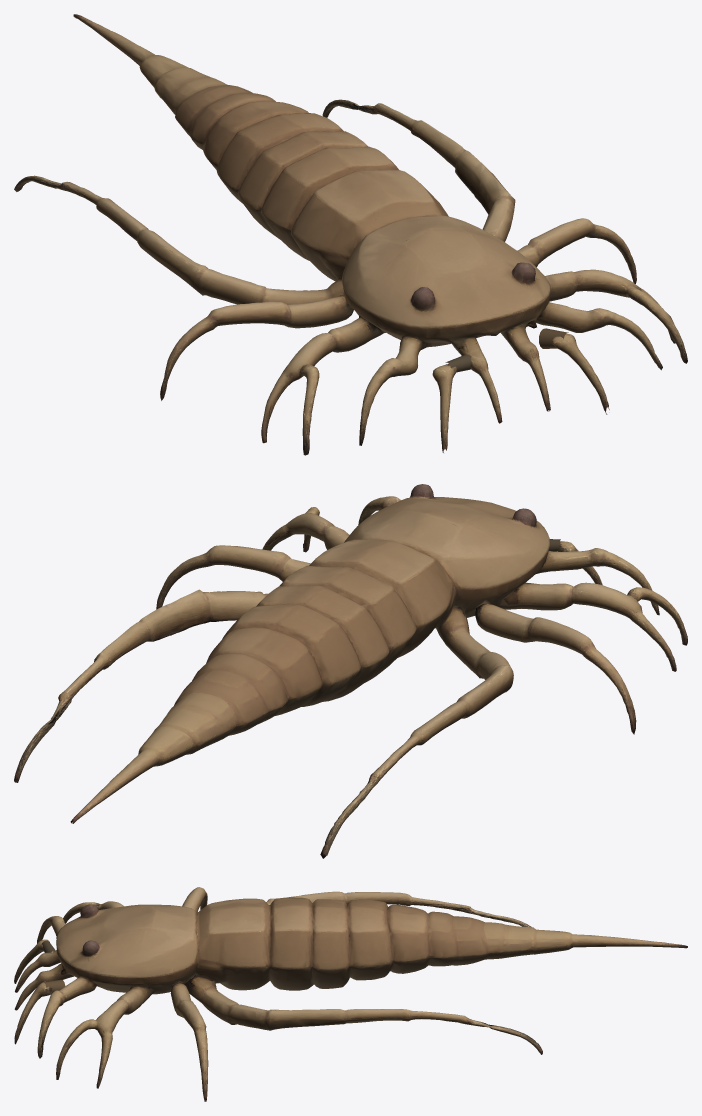
The picture shows the model from 3 angles, top to bottom: view 1: azimuth 30°, elevation 25°; view 2: azimuth 150°, elevation 25°; view 3: azimuth 270°, elevation 25°; orthographic projection. The views are drawn at different scales.
Visible parts, largest first — view 1: world; view 2: world; view 3: world.
Part boxes in pixels (x1,y1,x2,y2): world: (14, 14, 687, 455); world: (14, 484, 687, 858); world: (14, 887, 687, 1101).
Size of the model in its own units: 0.4576 by 0.1342 by 0.75.
Materials: 1 (1 with a texture image).
